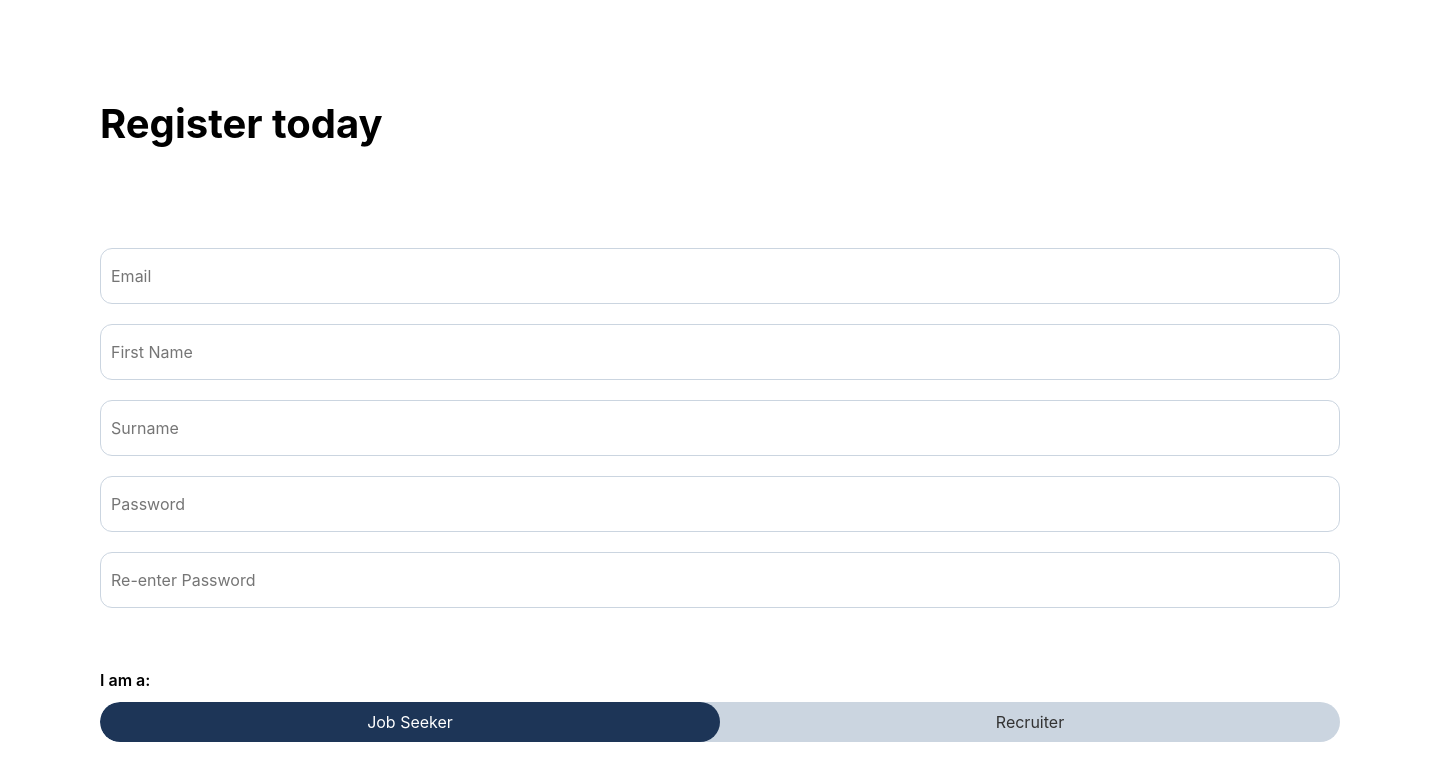
Test case: SignUpComponent › shows password mismatch error
Type "password123" into the password field with placeholder "Password". click: coordinates (720, 504)
box: x1=100 y1=476 x2=1340 y2=532
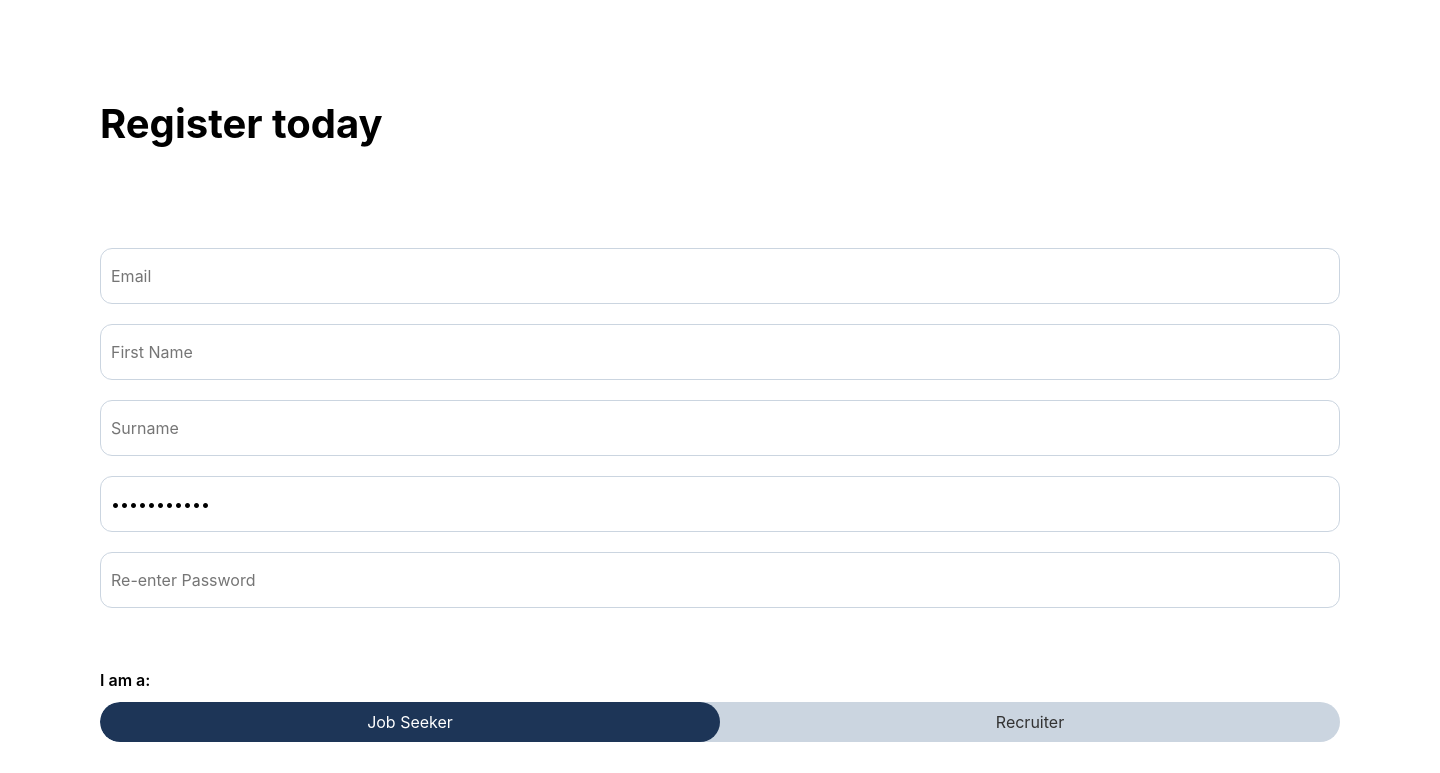
Type "password456" into the password field with placeholder "Re-enter Password". click: coordinates (720, 580)
box: x1=100 y1=552 x2=1340 y2=608
(page scrolled)
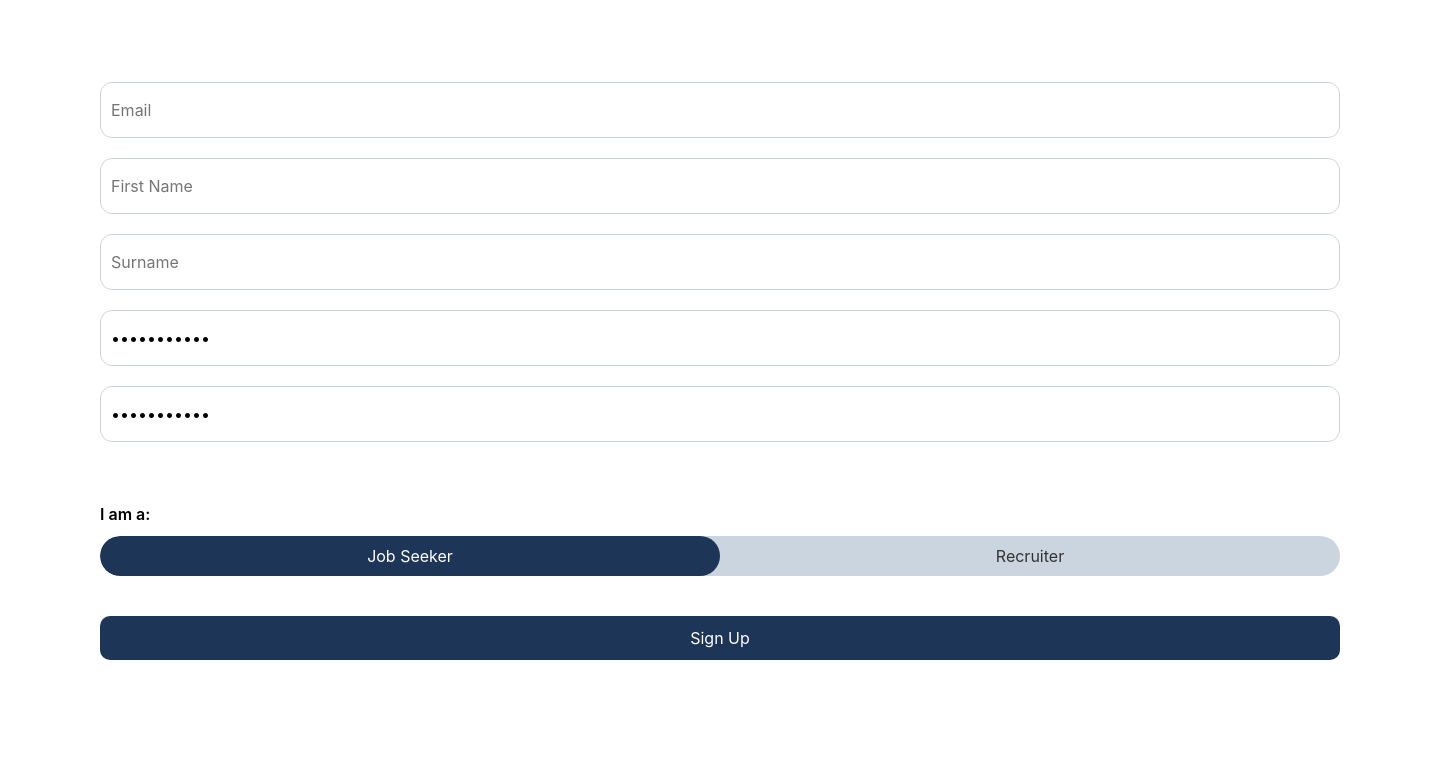
Click the button "Sign Up". click: coordinates (720, 638)
box: x1=100 y1=616 x2=1340 y2=660
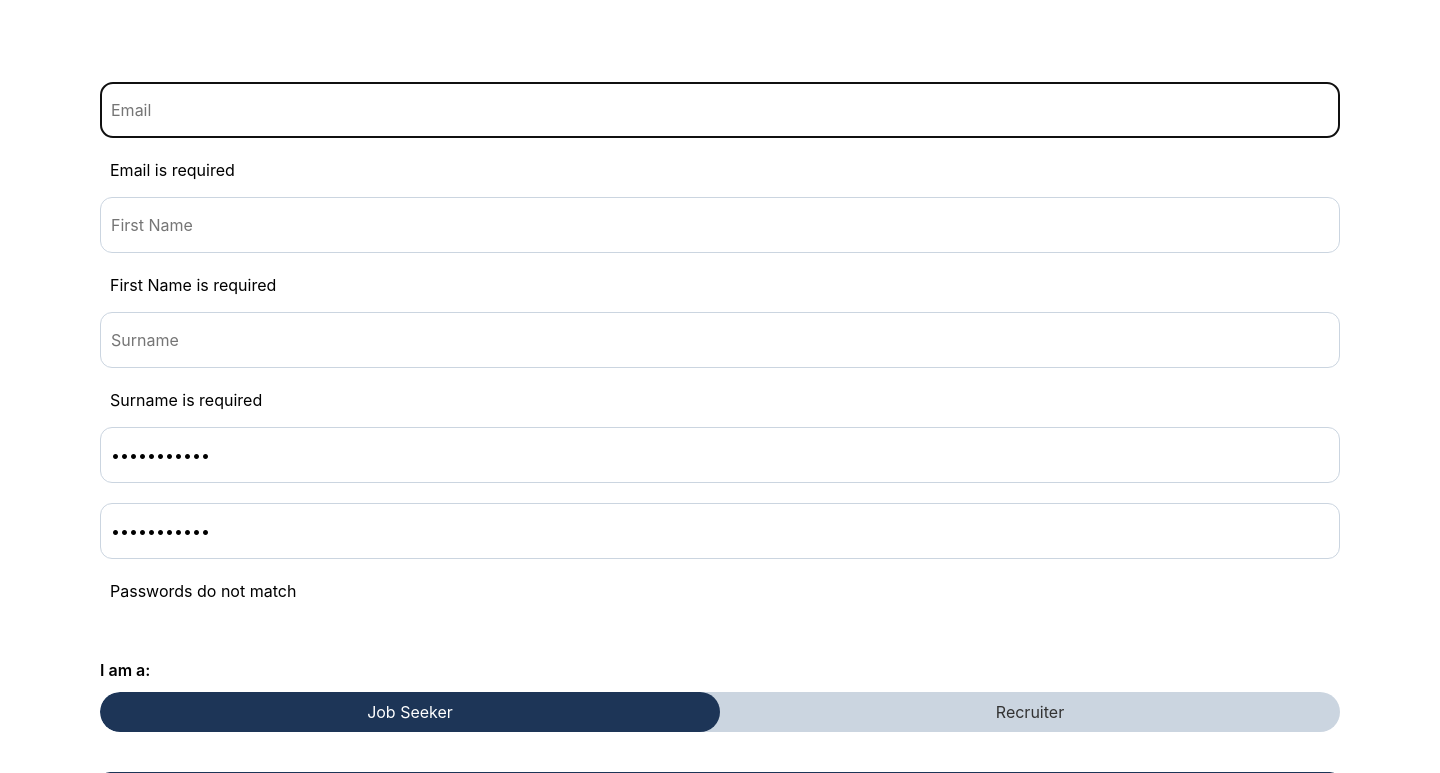
expect the text "Passwords do not match" is shown: met, box x1=110 y1=581 x2=296 y2=601
